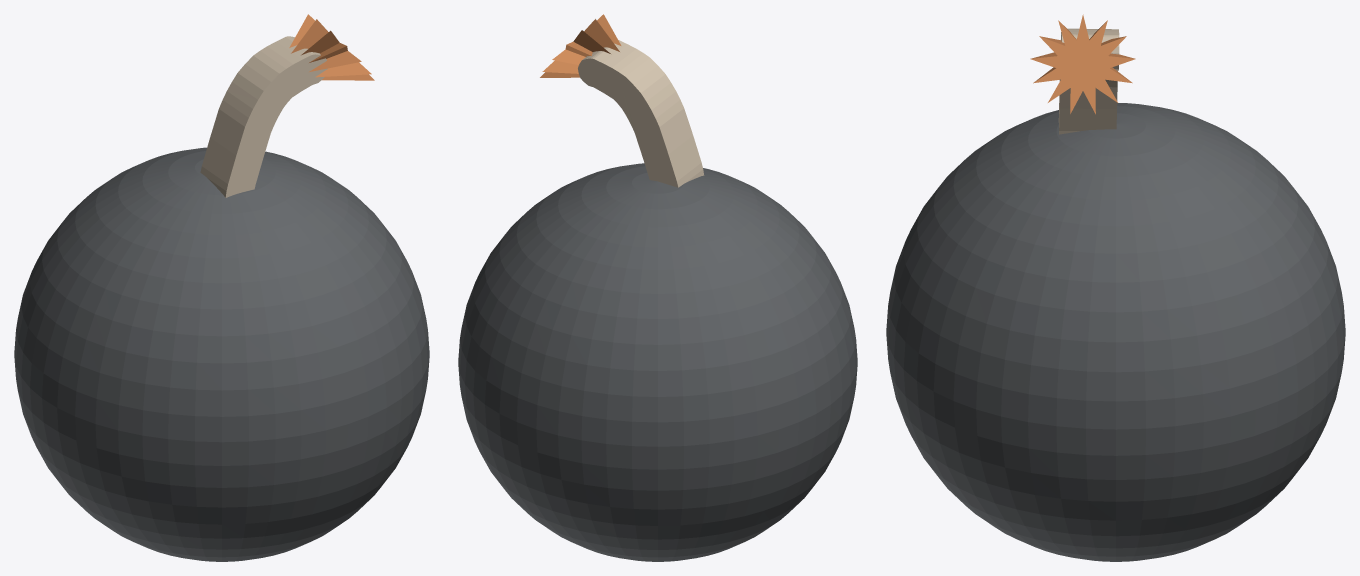
File: Bomb.glb
3 views of the same model, side by side, from view 1: azimuth 30°, elevation 25°; view 2: azimuth 150°, elevation 25°; view 3: azimuth 270°, elevation 25° (orthographic). The views are drawn at different scales.
Parts seen in each view (by area): view 1: Mesh_Mesh_head_geo.001_lambert2SG.001; view 2: Mesh_Mesh_head_geo.001_lambert2SG.001; view 3: Mesh_Mesh_head_geo.001_lambert2SG.001.
Part boxes in pixels (x1,y1,x2,y2): Mesh_Mesh_head_geo.001_lambert2SG.001: (14,14,429,561); Mesh_Mesh_head_geo.001_lambert2SG.001: (458,14,857,561); Mesh_Mesh_head_geo.001_lambert2SG.001: (886,14,1345,561).
Size of the model in its own units: 25.4 by 34.74 by 25.4.
